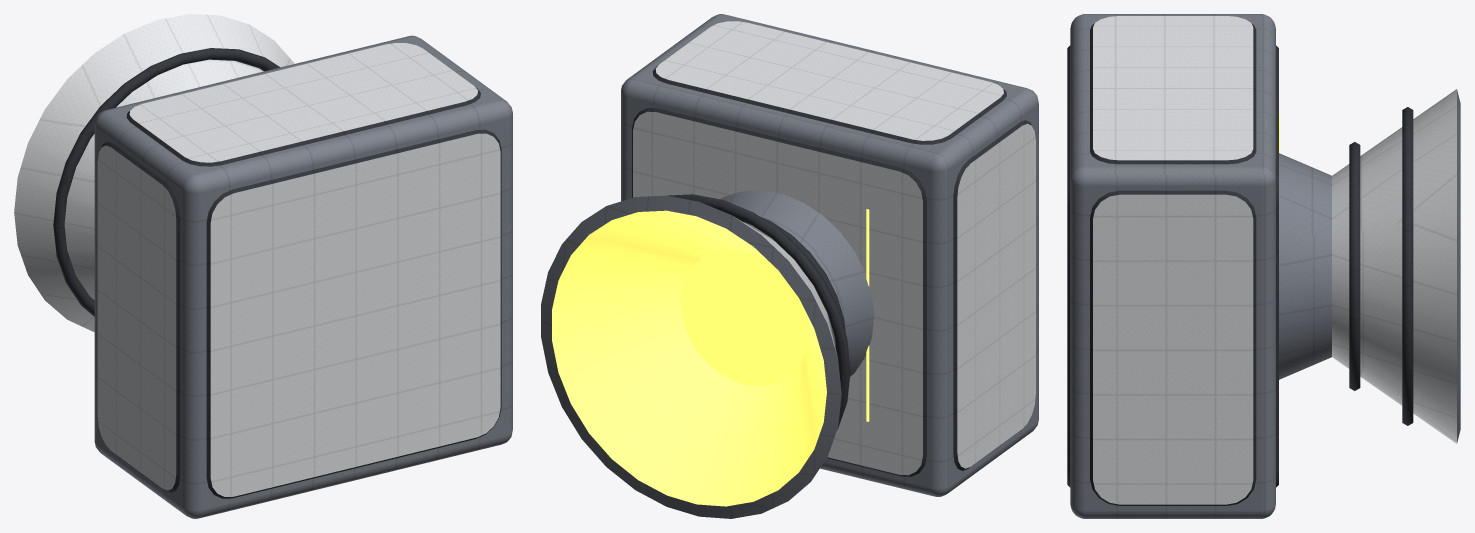
Rendered from R4X_Booster.glb.
3 views of the same model, side by side, from view 1: azimuth 30°, elevation 25°; view 2: azimuth 150°, elevation 25°; view 3: azimuth 270°, elevation 25° (orthographic). The views are drawn at different scales.
Parts seen in each view (by area): view 1: R4X_Booster_Body; view 2: R4X_Booster_Body; view 3: R4X_Booster_Body.
Part boxes in pixels (x1=…): R4X_Booster_Body: x1=14, y1=14, x2=512, y2=518; R4X_Booster_Body: x1=541, y1=14, x2=1038, y2=518; R4X_Booster_Body: x1=1067, y1=14, x2=1460, y2=518.
Bounding box in the file's own units: 0.52 × 0.52 × 0.52.
4 materials, 3 textured.
